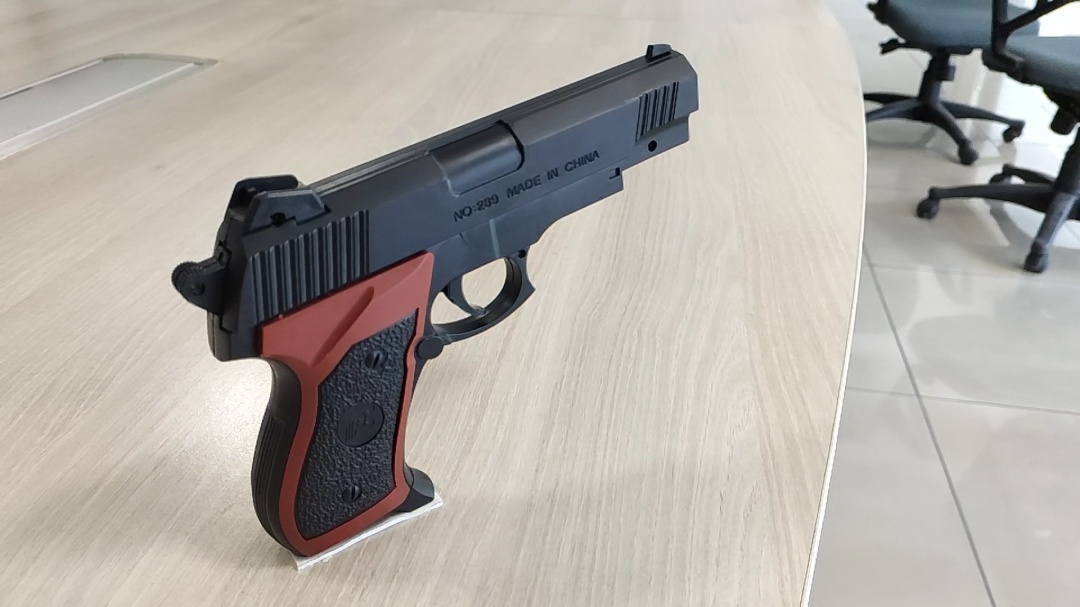gun: (172, 42, 700, 556)
